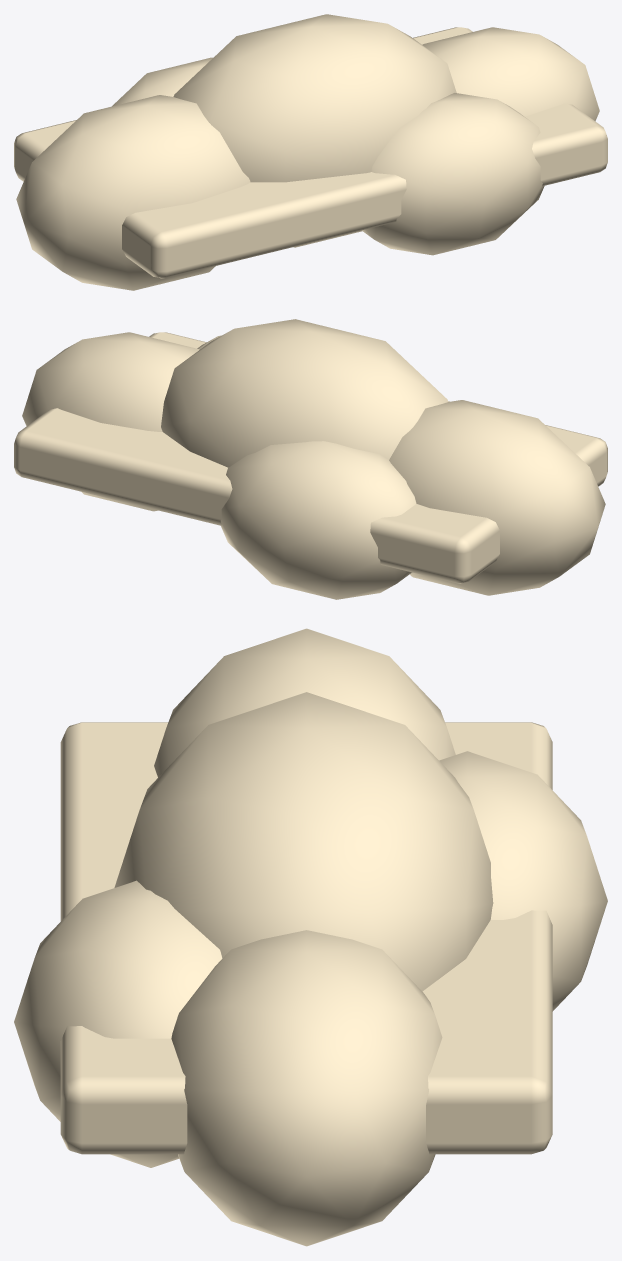
The model's file is cloud-platform.glb.
The picture shows the model from 3 angles, top to bottom: view 1: azimuth 30°, elevation 25°; view 2: azimuth 150°, elevation 25°; view 3: azimuth 270°, elevation 25°; orthographic projection. The views are drawn at different scales.
Parts seen in each view (by area): view 1: cloud-lobe-1, cloud-lobe-0, hidden-deck, cloud-lobe-4, cloud-lobe-2, cloud-lobe-3; view 2: cloud-lobe-1, cloud-lobe-0, hidden-deck, cloud-lobe-3, cloud-lobe-2; view 3: cloud-lobe-1, cloud-lobe-2, hidden-deck, cloud-lobe-4, cloud-lobe-3, cloud-lobe-0.
Part boxes in pixels (left/top/right/bottom): cloud-lobe-1: left=173, top=14, right=456, bottom=247; cloud-lobe-0: left=16, top=95, right=250, bottom=290; hidden-deck: left=14, top=27, right=607, bottom=278; cloud-lobe-4: left=362, top=93, right=544, bottom=255; cloud-lobe-2: left=422, top=27, right=599, bottom=121; cloud-lobe-3: left=112, top=57, right=212, bottom=106; cloud-lobe-1: left=161, top=319, right=448, bottom=467; cloud-lobe-0: left=389, top=400, right=605, bottom=595; hidden-deck: left=14, top=332, right=607, bottom=583; cloud-lobe-3: left=220, top=441, right=416, bottom=599; cloud-lobe-2: left=22, top=332, right=199, bottom=511; cloud-lobe-1: left=114, top=692, right=493, bottom=991; cloud-lobe-2: left=171, top=930, right=442, bottom=1246; hidden-deck: left=60, top=722, right=552, bottom=1154; cloud-lobe-4: left=14, top=880, right=222, bottom=1167; cloud-lobe-3: left=439, top=751, right=607, bottom=1011; cloud-lobe-0: left=154, top=628, right=455, bottom=777.
Bounding box in the file's own units: 2.18 × 0.7804 × 1.18.
